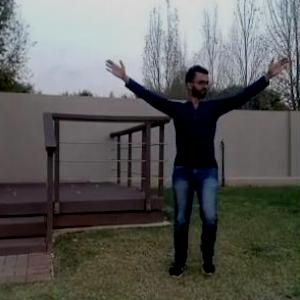takeoff: (94, 52, 296, 290)
